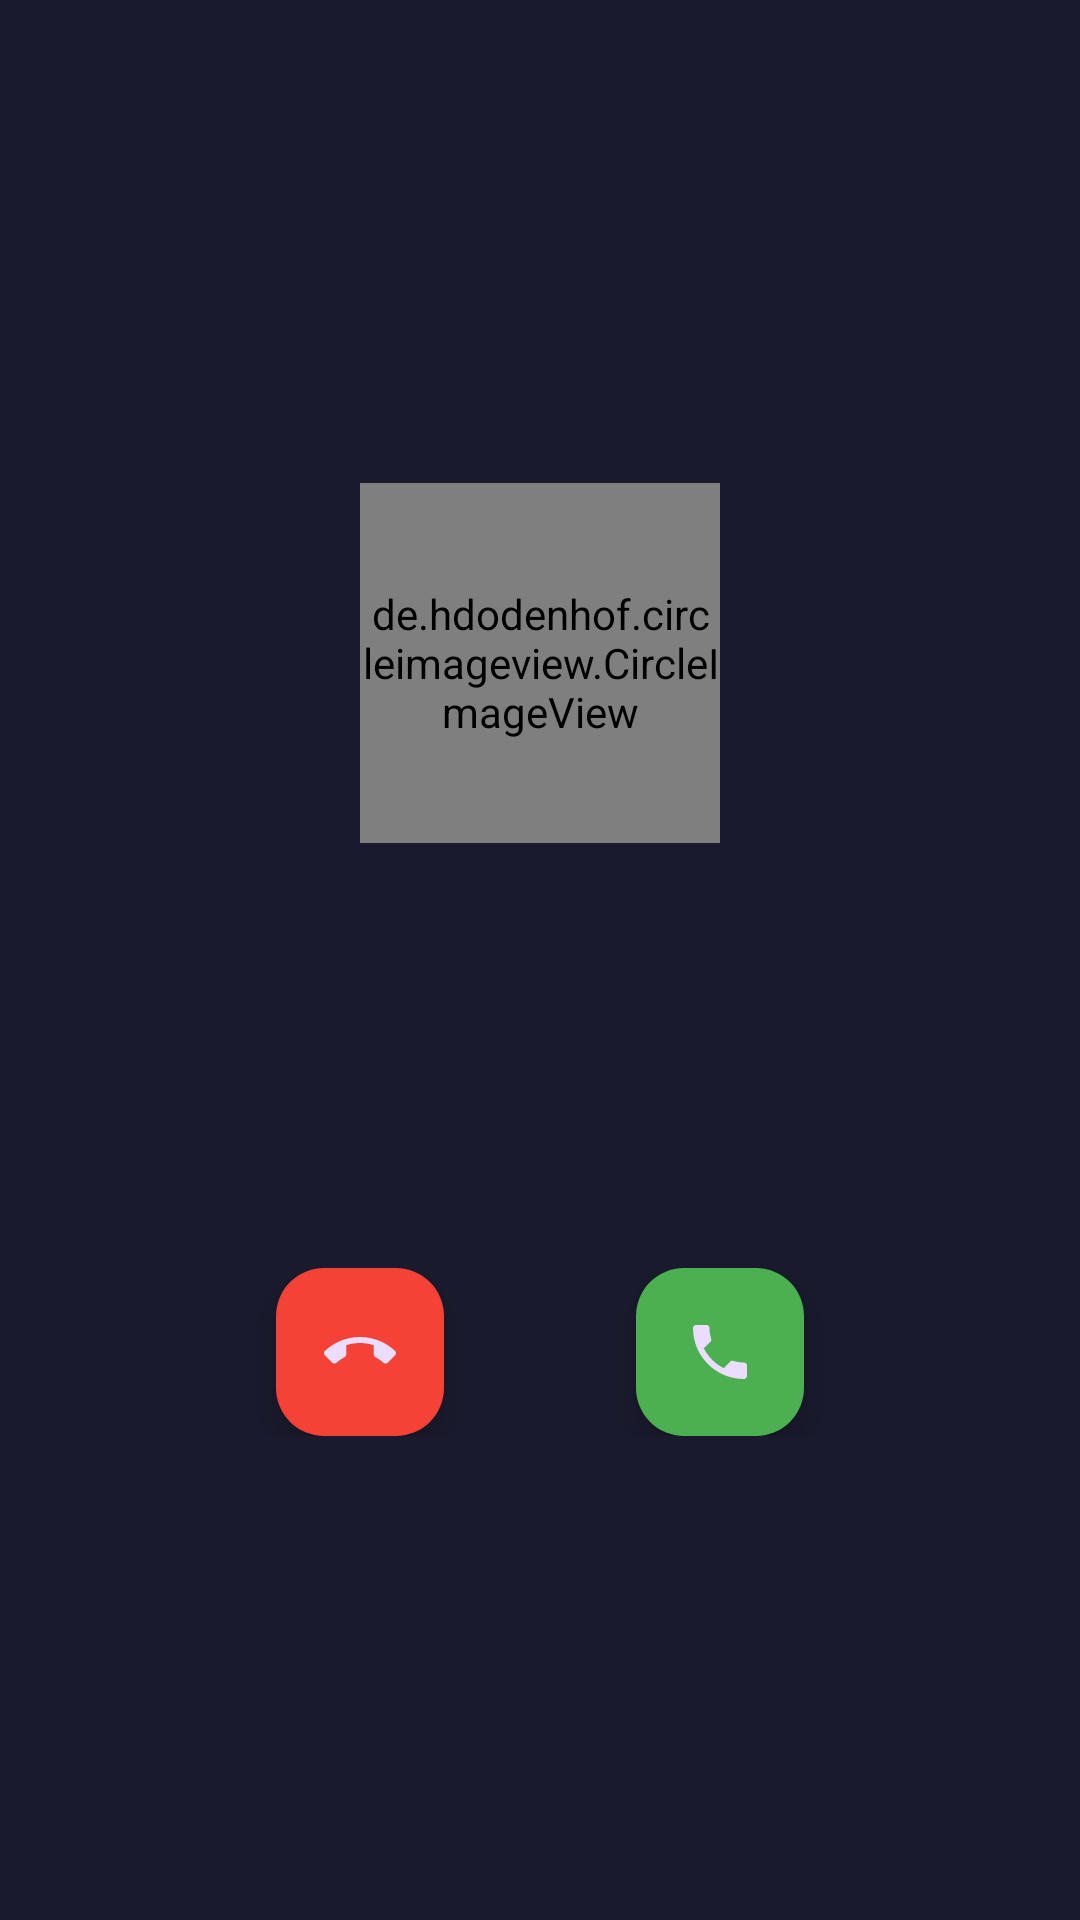

Screen size 1080×1920. Icon name, then its box in pixels as (x1, y1, x2, y2):
call: (636, 1268, 804, 1436)
call end: (276, 1268, 444, 1436)
